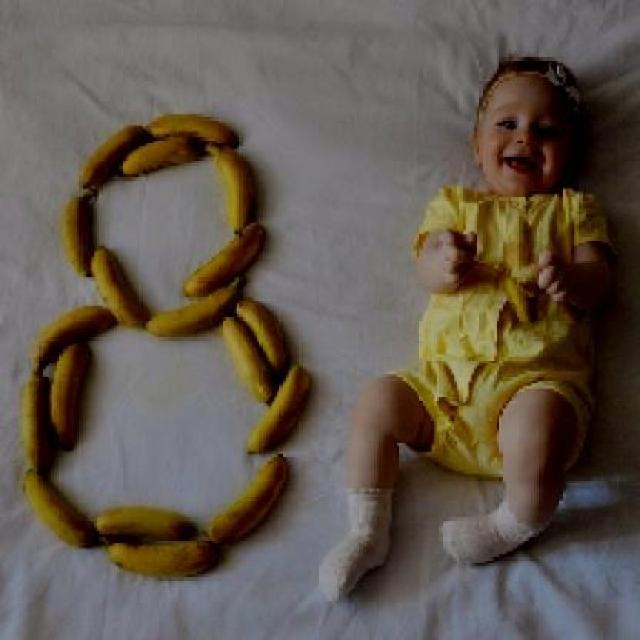child: (320, 56, 617, 602)
